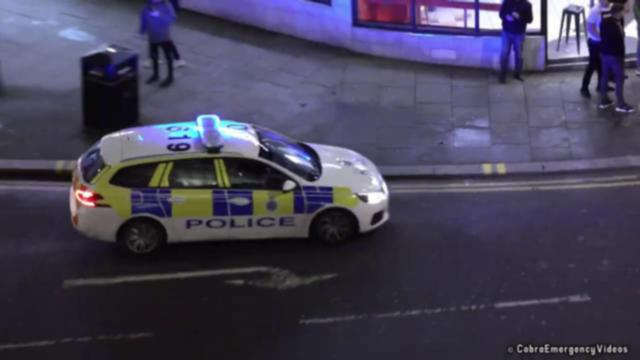police: (70, 114, 393, 252)
